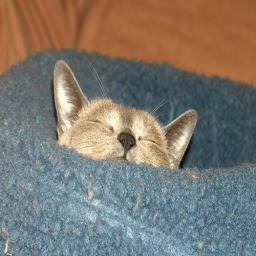catnose: (118, 132, 136, 152)
